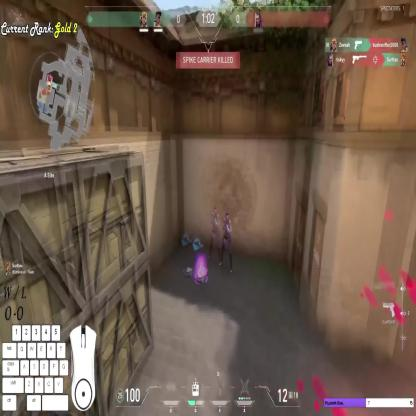enemy: (219, 212, 233, 271)
enemy_head: (225, 214, 230, 223)
